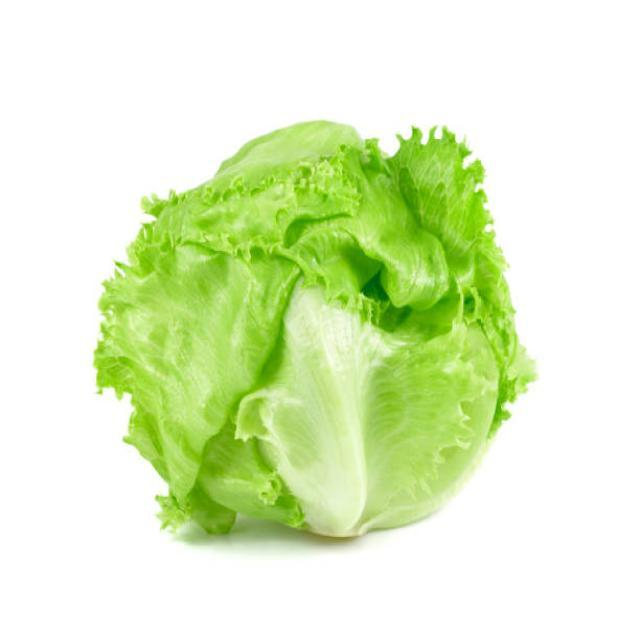Lettuce-Ready-to-Harvest: (95, 121, 534, 537)
